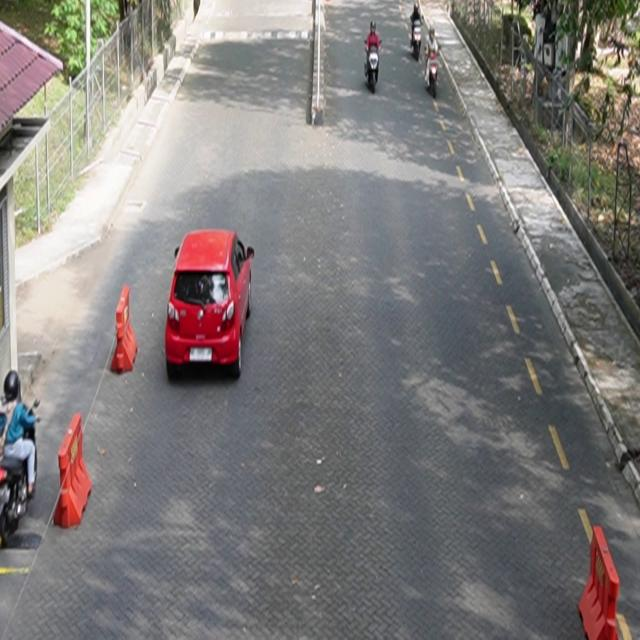car: (166, 229, 255, 380)
